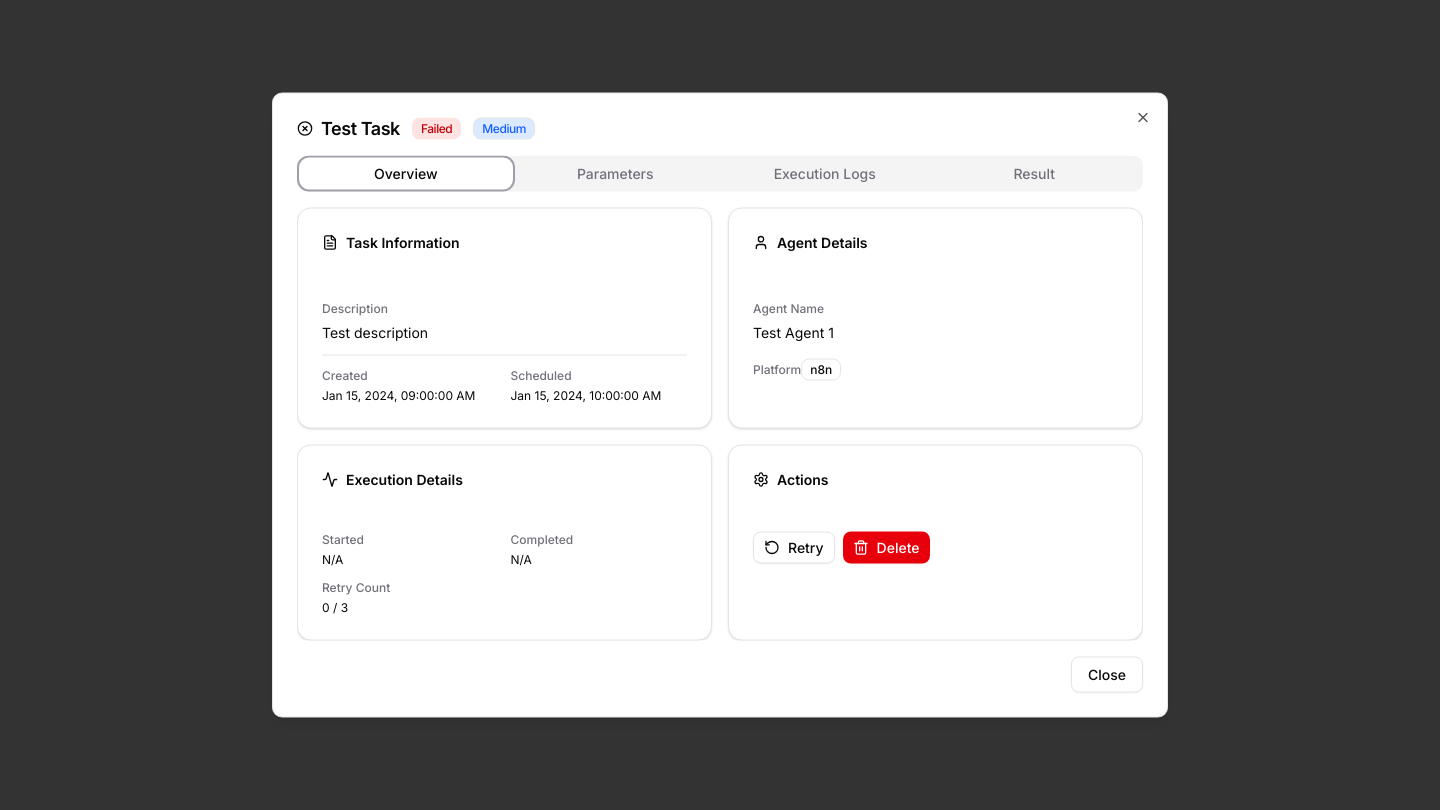
Scenario: TaskDetailModal › disables buttons while updating
Step 1. Click the button "Retry" → x=794, y=548, box 753,532 -> 835,564
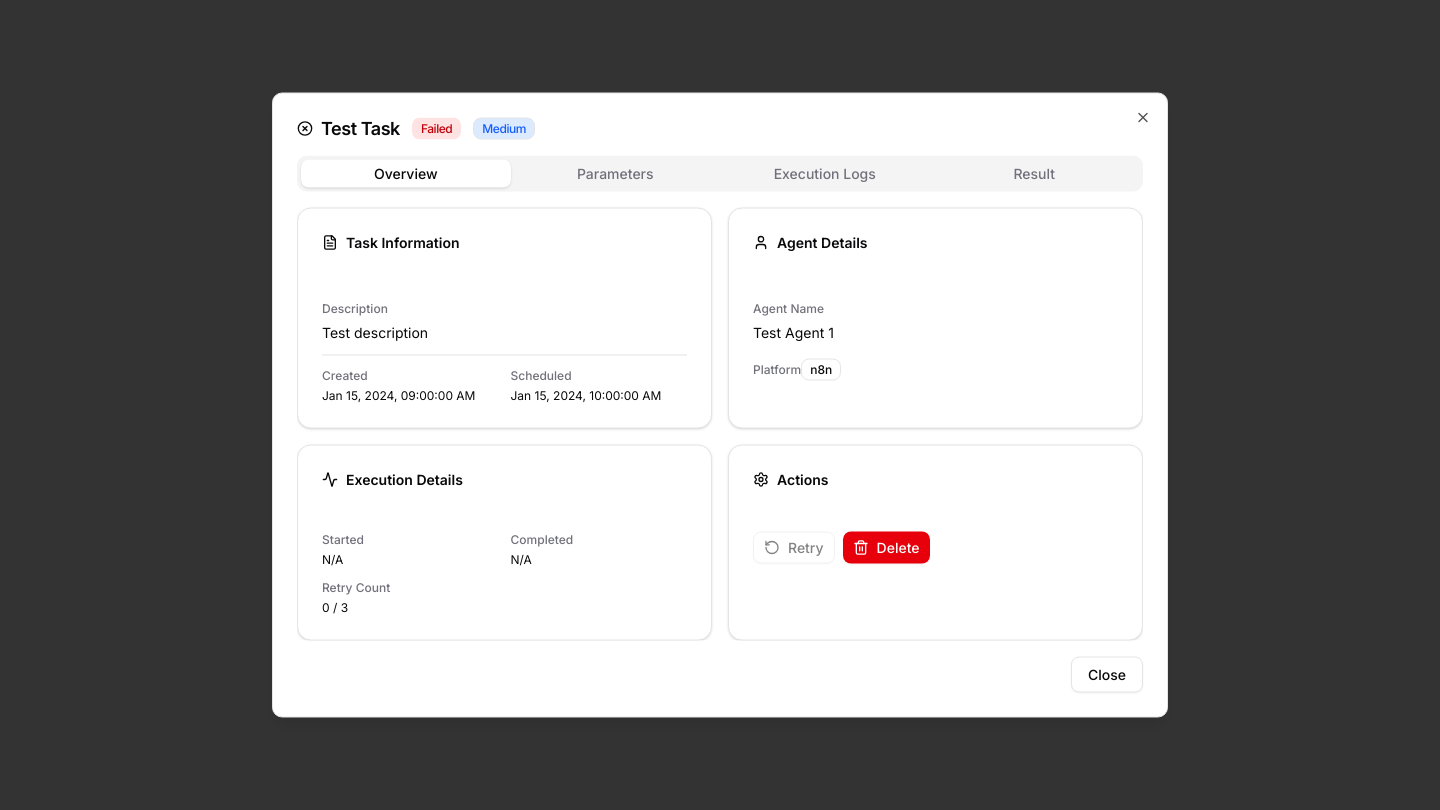
Expected: the button "Retry" is disabled, 753,532 -> 835,564
